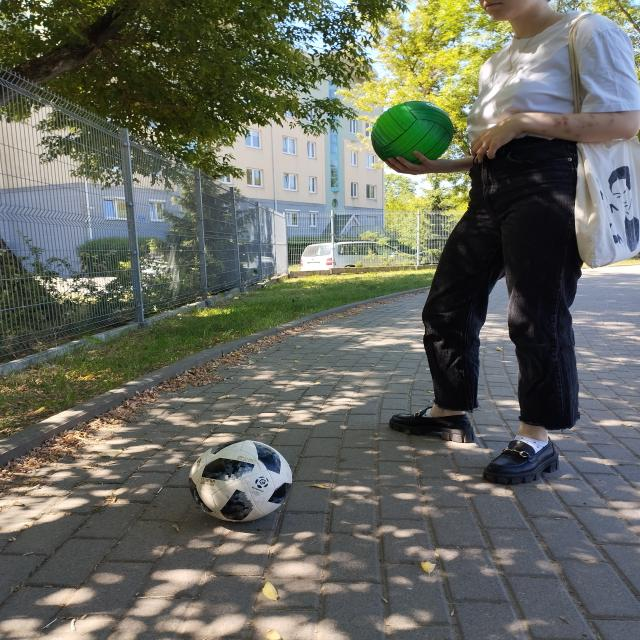nozna: (189, 439, 293, 522)
zielona: (372, 100, 454, 166)
